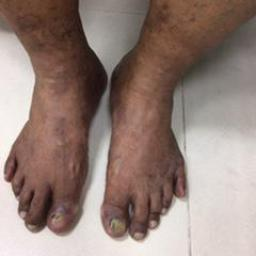Dorsal View -Both Feet-: (1, 28, 209, 247)
